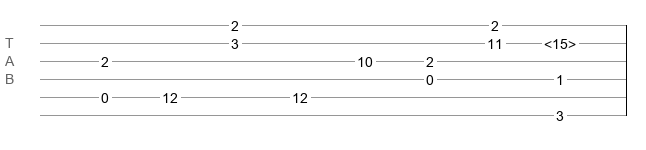0: (101, 90, 109, 100), (426, 72, 434, 82)
1: (556, 72, 564, 82)
10: (357, 54, 373, 64)
11: (487, 36, 503, 46)
12: (162, 90, 178, 100), (292, 90, 308, 100)
2: (101, 54, 109, 64), (231, 18, 239, 28), (426, 54, 434, 64), (491, 18, 499, 28)
3: (231, 36, 239, 46), (556, 108, 564, 118)
harmonic: (544, 36, 576, 46)
